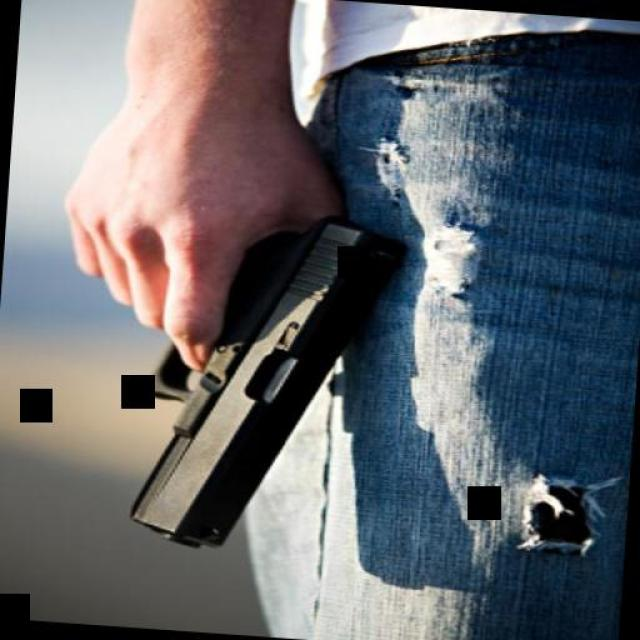gun: (118, 198, 422, 562)
